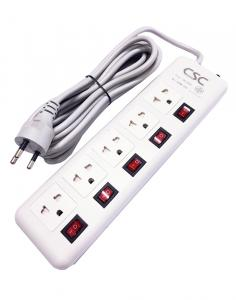Three_eye_plug: (12, 53, 230, 274)
